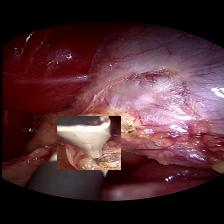Hook: (56, 116, 120, 170)
